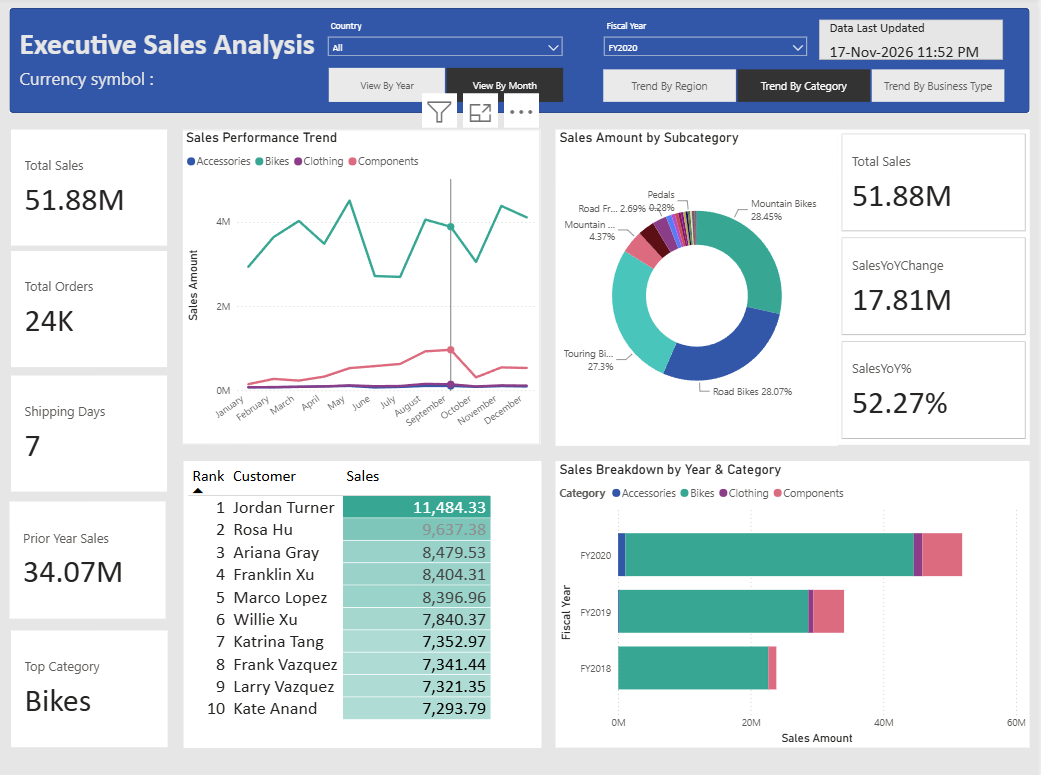

The page's visual inventory and layout, read from the dashboard file:
{"tool":"powerbi","page":{"name":"Sales Analysis","canvas":[1300,1000],"ordinal":0},"visuals":[{"type":"shape","box":[14,15,1276.7,131.4],"z":0},{"type":"donutChart","fields":{"Category":["Product.Subcategory"],"Y":["Sum(Sales.Sales Amount)"]},"box":[696.5,167.1,353.3,396.1],"z":0,"group":"g1"},{"type":"slicer","fields":{"Values":["Sales Territory.Country"]},"box":[401.8,24.4,313.5,60.1],"z":1000},{"type":"cardVisual","fields":{"Data":["_Measures.Total Sales","_Measures.SalesYoYChange","_Measures.SalesYoY%"]},"box":[1049.4,167.7,240.4,395],"z":1000,"group":"g1"},{"type":"slicer","fields":{"Values":["Time Granularity.Time Granularity"]},"box":[386,83,343,57],"z":2000},{"type":"slicer","fields":{"Values":["Dimension trend.Dimension trend"]},"box":[730,84,552,55],"z":3000},{"type":"textbox","box":[20,31,381,58],"z":4000},{"type":"textbox","box":[20,88.8,323,58.4],"z":5000},{"type":"cardVisual","fields":{"Data":["_Measures.Total Sales"]},"box":[14.8,166.3,195.7,145],"z":6000},{"type":"cardVisual","fields":{"Data":["Count(Sales Order.Sales Order)"]},"box":[14.8,319,195.7,145],"z":7000},{"type":"cardVisual","fields":{"Data":["_Measures.AverageShippingDays"]},"box":[15,475,195.2,145],"z":8000},{"type":"lineChart","title":"Sales Performance Trend","fields":{"Category":["Date.Full Date.Variation.Date Hierarchy.Month"],"Series":["Category.Category"],"Y":["Sum(Sales.Sales Amount)"]},"box":[229,167.1,448.7,394.3],"z":9000},{"type":"tableEx","fields":{"Values":["_Measures.CustomerRanking","Customer.Customer","Sum(Sales.Sales Amount)"]},"box":[230.3,581.5,447.2,358.9],"z":10000},{"type":"slicer","fields":{"Values":["Date.Fiscal Year"]},"box":[747.2,24.4,274.1,60.1],"z":11000},{"type":"barChart","title":"Sales Breakdown by Year & Category","fields":{"Category":["Date.Fiscal Year"],"Series":["Product.Category"],"Y":["Sum(Sales.Sales Amount)"]},"box":[696.7,581.5,593.1,358.9],"z":12000},{"type":"group","id":"g1","title":"Group 1","box":[696.5,167.1,593.3,396.1],"z":13000},{"type":"cardVisual","fields":{"Data":["_Measures.PriorYearSales"]},"box":[13.1,632.7,195.2,146.4],"z":14000},{"type":"cardVisual","fields":{"Data":["_Measures.Last Refreshed Time"]},"box":[1021.3,24.4,240.3,60.1],"z":15000},{"type":"cardVisual","fields":{"Data":["_Measures.Top Category"]},"box":[15.4,794.6,195.8,145.9],"z":16000},{"type":"textbox","box":[298.5,311.6,306,80.7],"z":17000},{"type":"textbox","box":[719,311.6,306,80.7],"z":18000}]}

Visuals, with their boxes on the page's 1300x1000 design canvas (x1, y1, x2, y2). These are canvas units, not pixel positions in the 1041x775 screenshot, which may show the page scaled, cropped or inside an application window:
shape: 14/15/1291/146
donutChart - Product.Subcategory x Sum(Sales.Sales Amount): 696/167/1050/563
slicer - Sales Territory.Country: 402/24/715/84
cardVisual - _Measures.Total Sales x _Measures.SalesYoYChange: 1049/168/1290/563
slicer - Time Granularity.Time Granularity: 386/83/729/140
slicer - Dimension trend.Dimension trend: 730/84/1282/139
textbox: 20/31/401/89
textbox: 20/89/343/147
cardVisual - _Measures.Total Sales: 15/166/210/311
cardVisual - Count(Sales Order.Sales Order): 15/319/210/464
cardVisual - _Measures.AverageShippingDays: 15/475/210/620
"Sales Performance Trend" lineChart: 229/167/678/561
tableEx - _Measures.CustomerRanking x Customer.Customer: 230/582/678/940
slicer - Date.Fiscal Year: 747/24/1021/84
"Sales Breakdown by Year & Category" barChart: 697/582/1290/940
"Group 1" group: 696/167/1290/563
cardVisual - _Measures.PriorYearSales: 13/633/208/779
cardVisual - _Measures.Last Refreshed Time: 1021/24/1262/84
cardVisual - _Measures.Top Category: 15/795/211/940
textbox: 298/312/604/392
textbox: 719/312/1025/392
